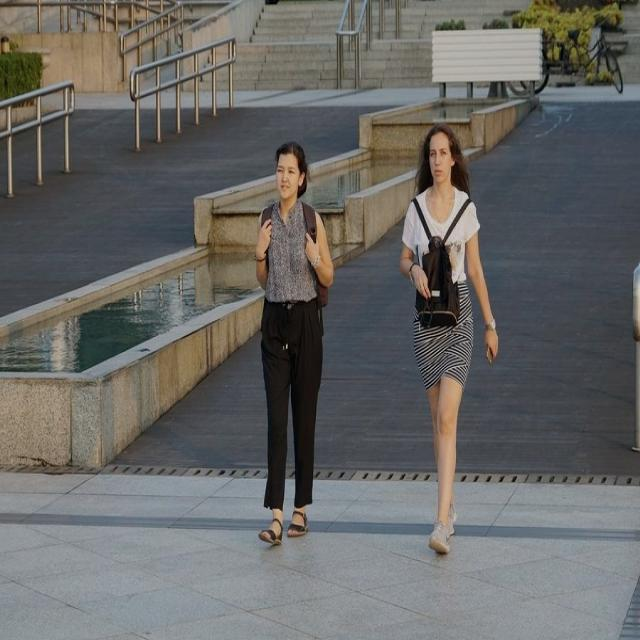non-fight: (402, 122, 498, 559), (253, 138, 332, 549)
